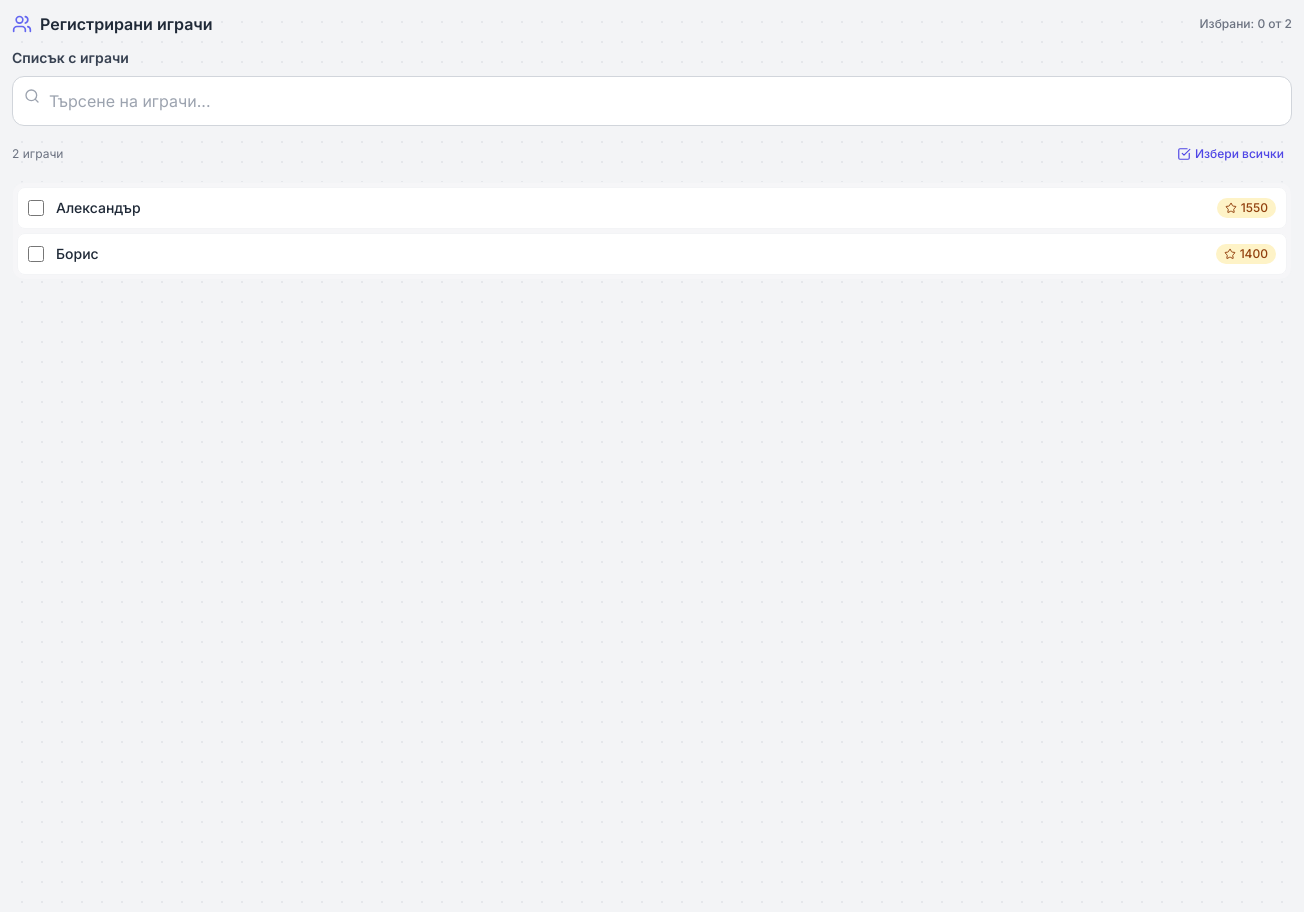
Test: PlayerSelector Component › filters players by search query
Type "Борис" into the field with placeholder "Търсене на играчи...".
click(652, 101); type("Борис")  # box [12,76,1292,126]
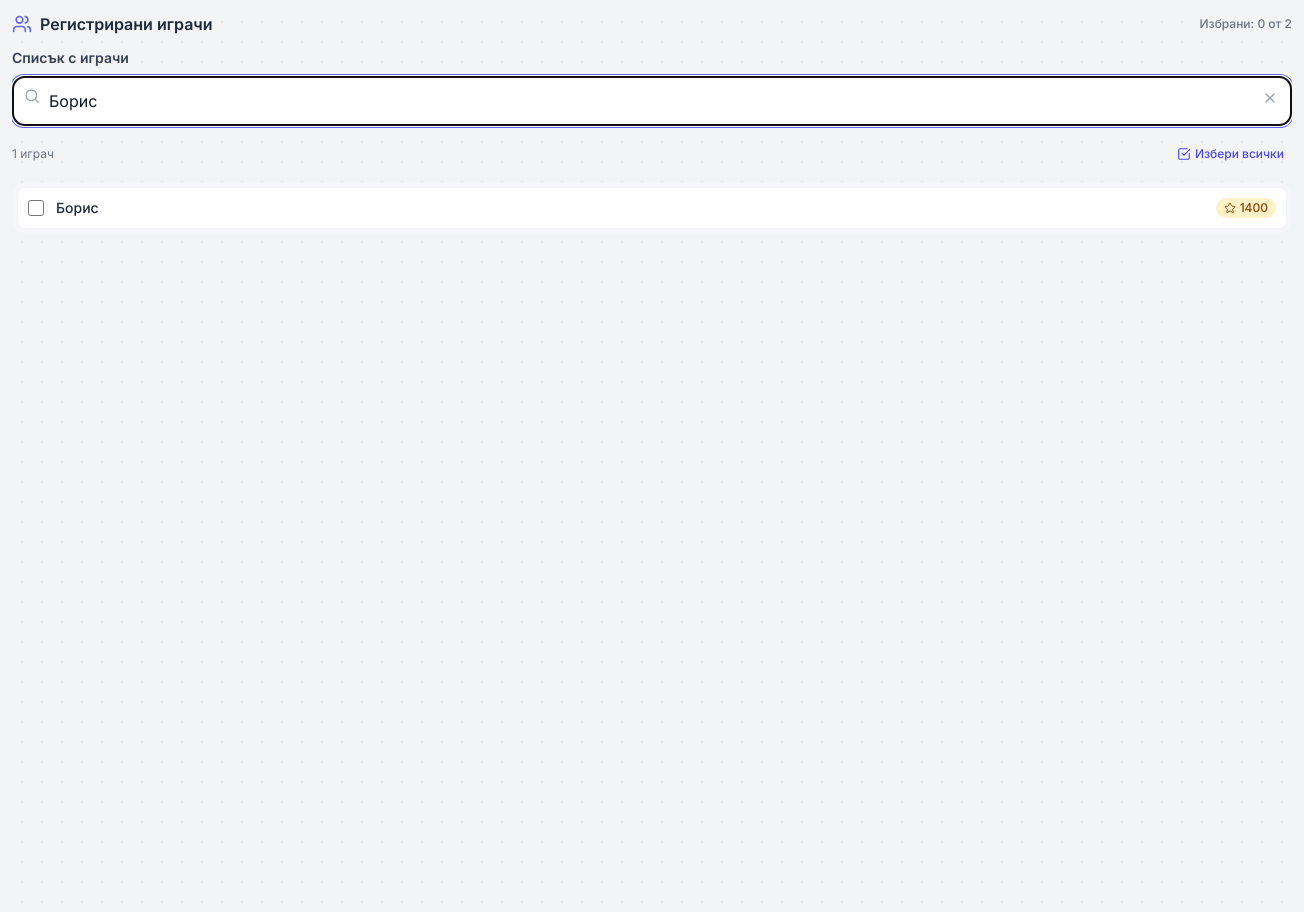
Expected: the text "Борис" is shown, [56,198,99,218]
Expected: the text "Александър" is gone
